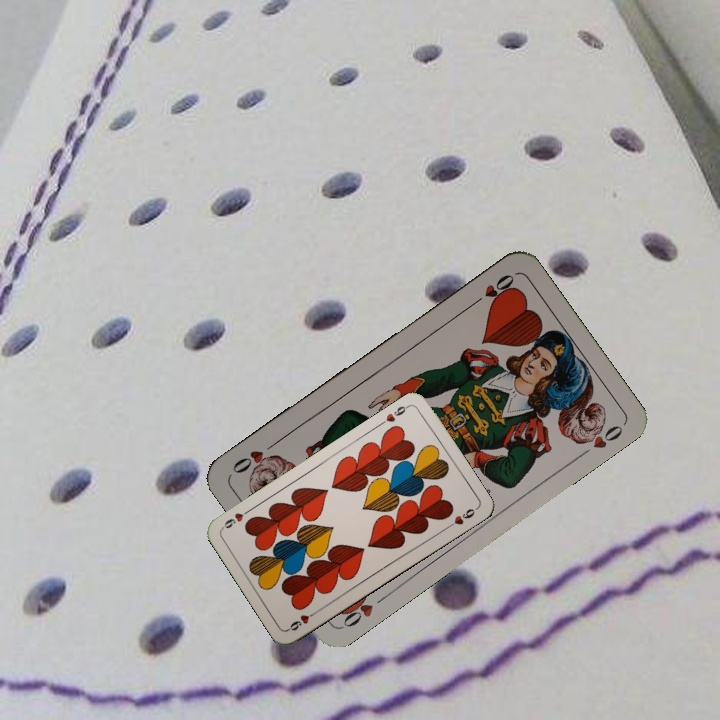H9: (284, 606, 321, 633), (376, 401, 412, 428)
HO: (335, 588, 390, 631), (466, 270, 517, 310)
